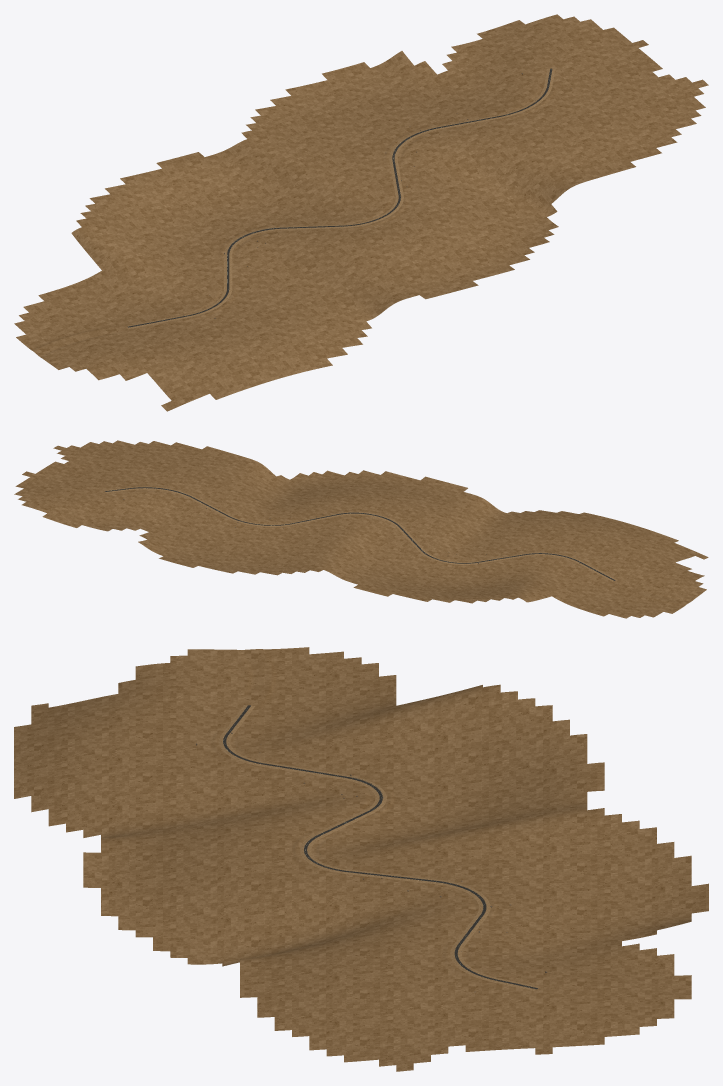
3 views of the same model, one above another, from view 1: azimuth 30°, elevation 25°; view 2: azimuth 150°, elevation 25°; view 3: azimuth 270°, elevation 25° (orthographic). The views are drawn at different scales.
Parts seen in each view (by area): view 1: S05_TERRAIN_LOD0_WEB_EXPORT, V2_LANDFORM_S05_CUT_FILL_LEFT_WEB_EXPORT, V2_LANDFORM_S05_CUT_FILL_RIGHT_WEB_EXPORT, S05_ROAD_ASPHALT_LOD0_WEB_EXPORT; view 2: S05_TERRAIN_LOD0_WEB_EXPORT, V2_LANDFORM_S05_CUT_FILL_RIGHT_WEB_EXPORT, V2_LANDFORM_S05_CUT_FILL_LEFT_WEB_EXPORT, S05_ROAD_ASPHALT_LOD0_WEB_EXPORT; view 3: S05_TERRAIN_LOD0_WEB_EXPORT, V2_LANDFORM_S05_CUT_FILL_LEFT_WEB_EXPORT, V2_LANDFORM_S05_CUT_FILL_RIGHT_WEB_EXPORT, S05_ROAD_ASPHALT_LOD0_WEB_EXPORT.
Boxes of the visible parts, <box> form: S05_TERRAIN_LOD0_WEB_EXPORT: <box>14,14,708,411</box>; V2_LANDFORM_S05_CUT_FILL_LEFT_WEB_EXPORT: <box>128,68,555,328</box>; V2_LANDFORM_S05_CUT_FILL_RIGHT_WEB_EXPORT: <box>127,68,549,326</box>; S05_ROAD_ASPHALT_LOD0_WEB_EXPORT: <box>128,68,552,327</box>; S05_TERRAIN_LOD0_WEB_EXPORT: <box>14,440,708,618</box>; V2_LANDFORM_S05_CUT_FILL_RIGHT_WEB_EXPORT: <box>105,488,613,581</box>; V2_LANDFORM_S05_CUT_FILL_LEFT_WEB_EXPORT: <box>104,486,617,580</box>; S05_ROAD_ASPHALT_LOD0_WEB_EXPORT: <box>105,487,615,580</box>; S05_TERRAIN_LOD0_WEB_EXPORT: <box>14,647,708,1071</box>; V2_LANDFORM_S05_CUT_FILL_LEFT_WEB_EXPORT: <box>218,705,535,990</box>; V2_LANDFORM_S05_CUT_FILL_RIGHT_WEB_EXPORT: <box>226,705,540,987</box>; S05_ROAD_ASPHALT_LOD0_WEB_EXPORT: <box>223,705,537,989</box>.
Size of the model in its own units: 2720 by 288 by 1600.
12 materials, 9 textured.
